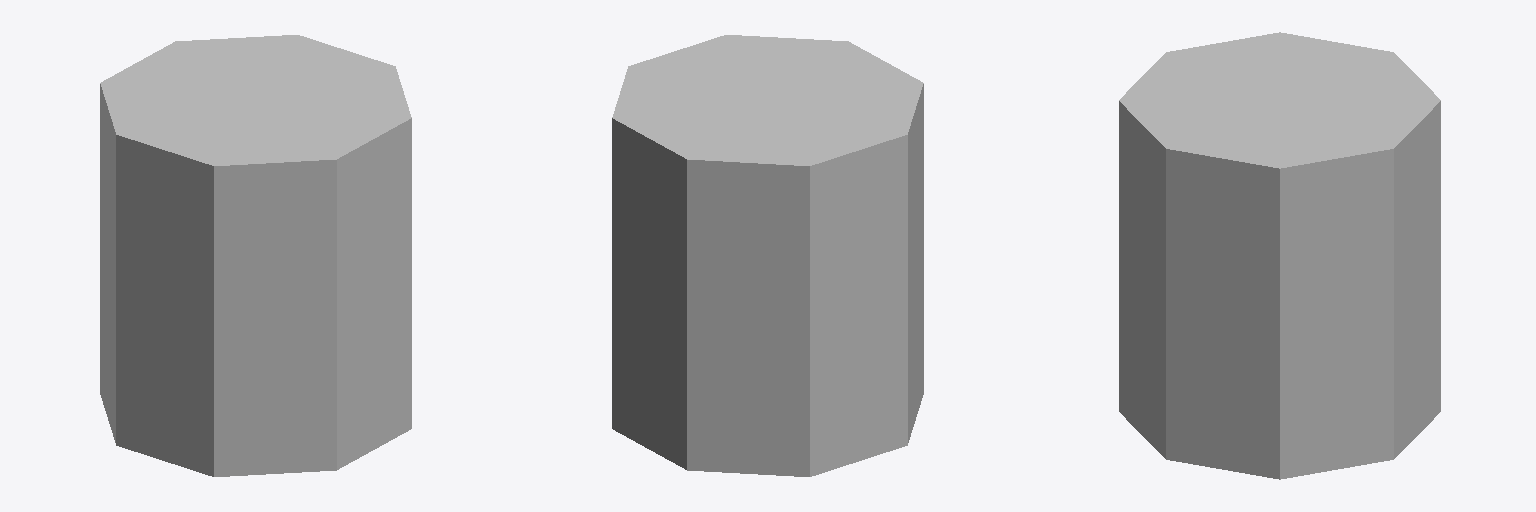
Rendered from stump.obj.
3 renders of one model, left to right at view 1: azimuth 30°, elevation 25°; view 2: azimuth 150°, elevation 25°; view 3: azimuth 270°, elevation 25°, orthographic.
Parts seen in each view (by area): view 1: Cylinder; view 2: Cylinder; view 3: Cylinder.
Boxes of the visible parts, x1=… form: Cylinder: x1=100, y1=35, x2=411, y2=476; Cylinder: x1=612, y1=35, x2=923, y2=476; Cylinder: x1=1119, y1=32, x2=1440, y2=479.
Bounding box in the file's own units: 2 × 2.13 × 2.